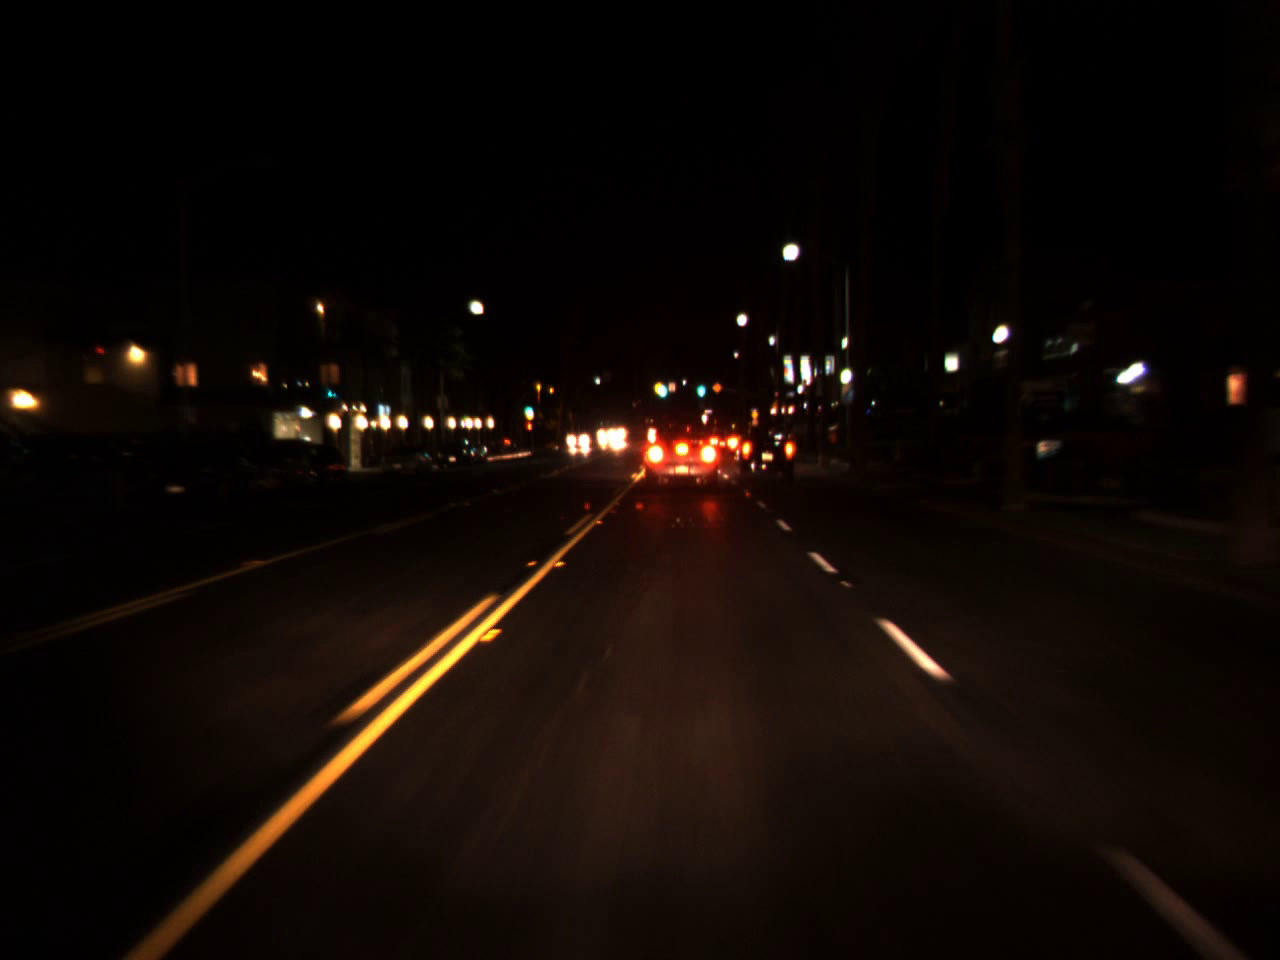go: (653, 370, 669, 403), (694, 372, 706, 402), (521, 399, 533, 414)
